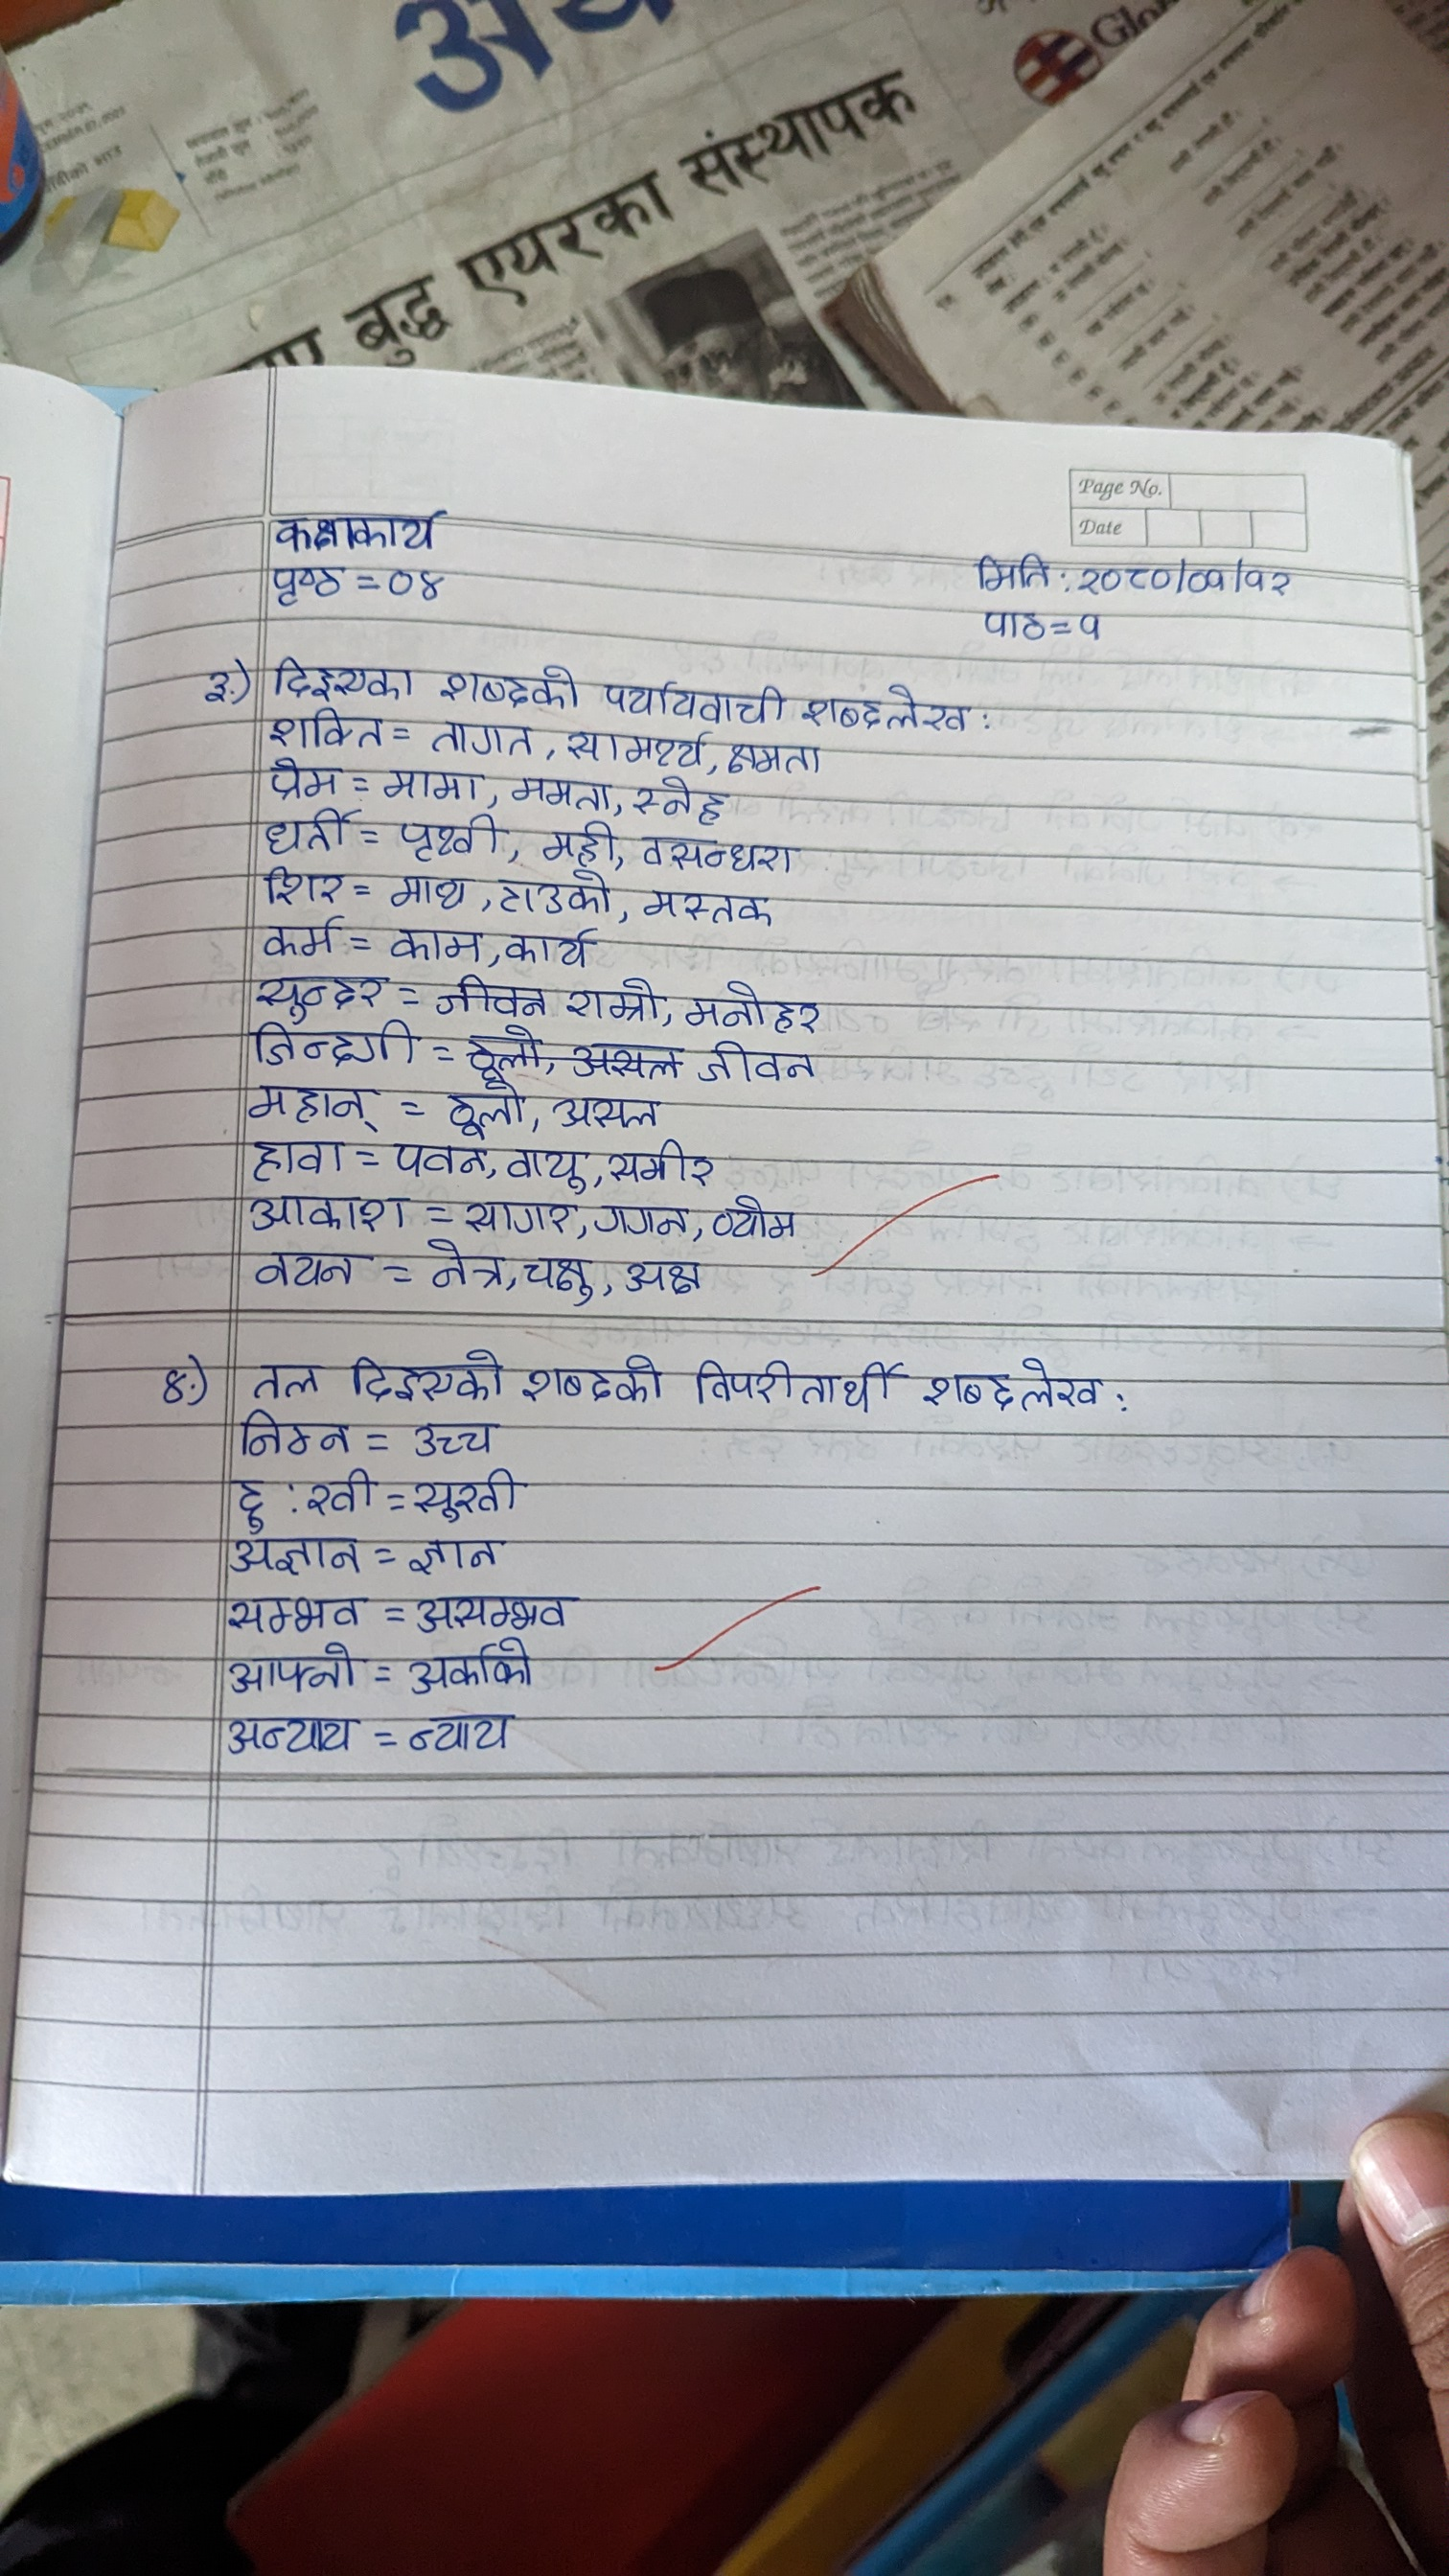text: (683, 1355, 899, 1412), (794, 676, 991, 734), (228, 1467, 380, 1536), (343, 1343, 504, 1407), (265, 501, 442, 554), (596, 672, 782, 722), (515, 1348, 662, 1410), (400, 1638, 554, 1693), (248, 1019, 423, 1067), (225, 1642, 359, 1702), (242, 1185, 405, 1235), (635, 828, 796, 878), (681, 980, 826, 1033), (414, 1589, 580, 1633), (430, 662, 579, 709), (219, 1713, 363, 1762), (640, 883, 787, 931), (241, 1083, 393, 1129), (564, 724, 708, 770), (269, 655, 416, 699), (1023, 1348, 1111, 1419), (235, 1408, 356, 1460), (138, 1359, 223, 1431), (249, 973, 400, 1014), (920, 1357, 1016, 1421), (605, 1138, 725, 1187), (225, 1592, 364, 1635), (694, 1039, 816, 1086), (244, 1246, 370, 1292), (226, 1536, 366, 1576), (418, 1470, 522, 1523), (402, 1709, 522, 1755), (708, 1194, 810, 1246), (269, 706, 387, 750), (499, 872, 612, 918), (458, 1194, 573, 1238), (395, 814, 501, 862), (517, 1249, 603, 1307), (545, 1090, 662, 1132), (442, 1076, 524, 1136), (610, 1256, 718, 1300), (255, 805, 350, 855), (246, 1136, 347, 1182), (407, 1534, 511, 1578), (633, 777, 729, 824), (561, 977, 663, 1021), (1076, 552, 1171, 598), (430, 718, 536, 759), (511, 771, 616, 812), (502, 1145, 591, 1192), (384, 922, 485, 962), (258, 862, 350, 906), (504, 927, 600, 970), (425, 1244, 510, 1292), (594, 1200, 692, 1240), (389, 1138, 485, 1178), (257, 915, 347, 957), (402, 1417, 495, 1458), (380, 764, 478, 803), (391, 867, 472, 911), (541, 816, 614, 863), (722, 741, 826, 773), (267, 566, 349, 607), (264, 757, 341, 800), (971, 554, 1056, 591), (249, 1361, 324, 1401), (1237, 564, 1304, 603), (384, 566, 451, 603), (978, 607, 1047, 640), (1187, 561, 1230, 602), (198, 662, 235, 708), (1079, 610, 1118, 648)
